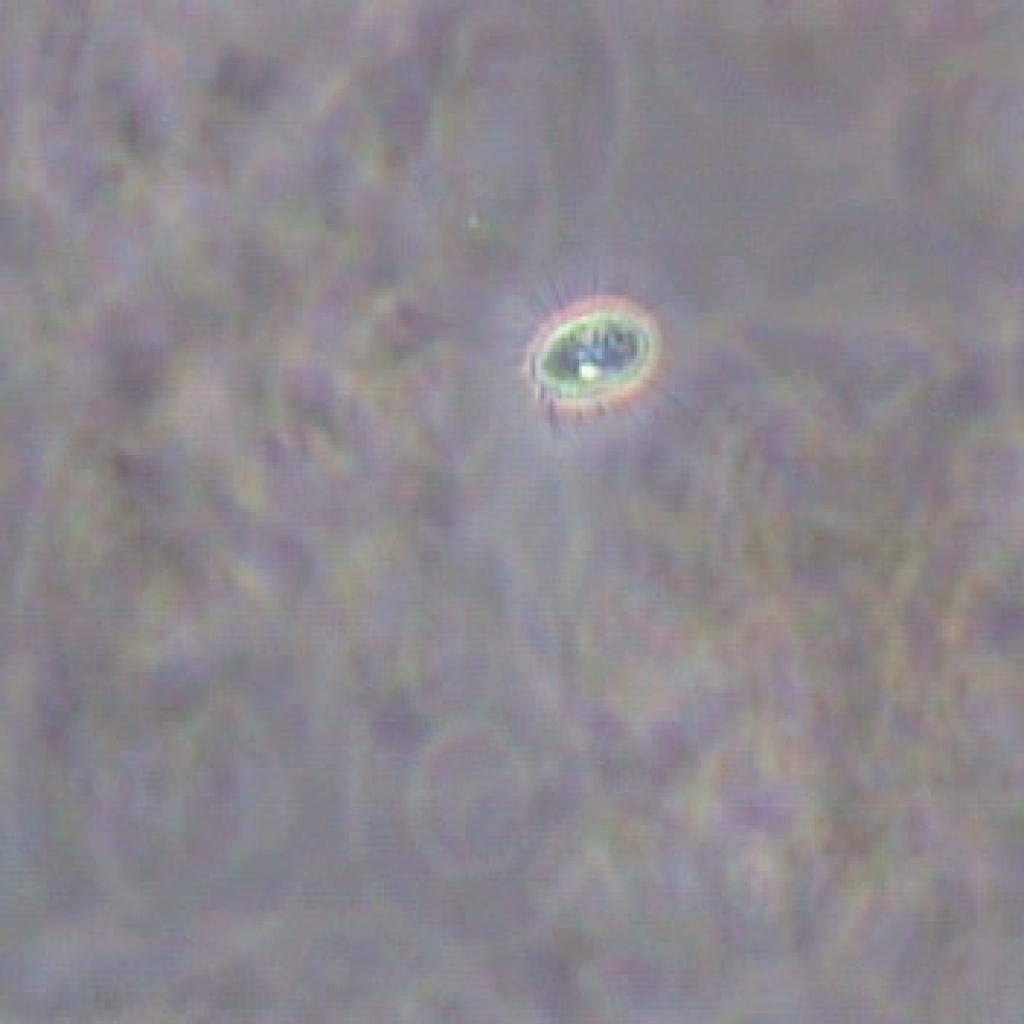Cyclidium: (506, 263, 684, 437)
